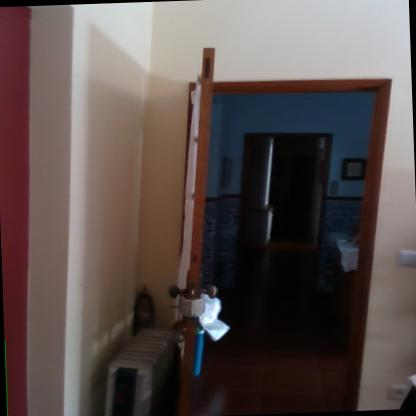open: (162, 31, 413, 416)
